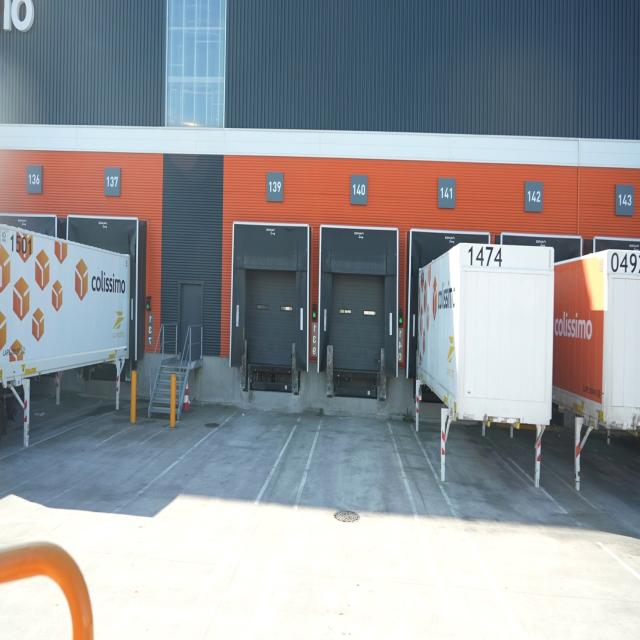Code: (462, 240, 504, 271), (5, 226, 36, 258)
